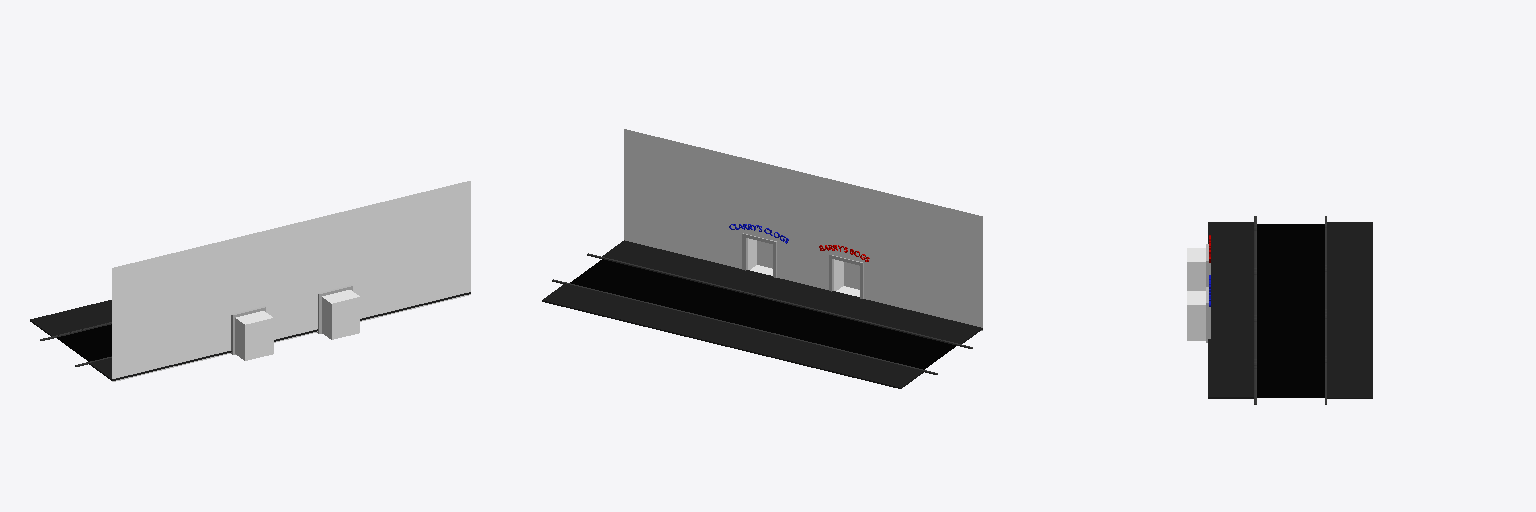
The model's file is StreetFullMesh.obj.
The picture shows the model from 3 angles: view 1: azimuth 30°, elevation 25°; view 2: azimuth 150°, elevation 25°; view 3: azimuth 270°, elevation 25°; orthographic projection.
Parts seen in each view (by area): view 1: Shop_Fronts, Pavement_Close_Side, Road, Pavement_Far_Side; view 2: Shop_Fronts, Road, Pavement_Close_Side, Pavement_Far_Side, Curb_Far_Side, Curb_Close_Side; view 3: Road, Pavement_Close_Side, Pavement_Far_Side, Shop_Fronts, Curb_Far_Side.
Part boxes in pixels (left/top/right/bottom): Shop_Fronts: left=112, top=181, right=470, bottom=381; Pavement_Close_Side: left=30, top=300, right=111, bottom=336; Road: left=57, top=324, right=111, bottom=361; Pavement_Far_Side: left=89, top=292, right=470, bottom=380; Shop_Fronts: left=624, top=129, right=982, bottom=330; Road: left=570, top=259, right=955, bottom=369; Pavement_Close_Side: left=542, top=284, right=923, bottom=388; Pavement_Far_Side: left=602, top=240, right=982, bottom=343; Curb_Far_Side: left=587, top=253, right=972, bottom=348; Curb_Close_Side: left=552, top=279, right=937, bottom=374; Road: left=1257, top=224, right=1324, bottom=397; Pavement_Close_Side: left=1327, top=222, right=1372, bottom=398; Pavement_Far_Side: left=1208, top=222, right=1253, bottom=398; Shop_Fronts: left=1187, top=248, right=1205, bottom=340; Curb_Far_Side: left=1254, top=216, right=1256, bottom=404.
Size of the model in its own units: 131 by 37.52 by 55.13.